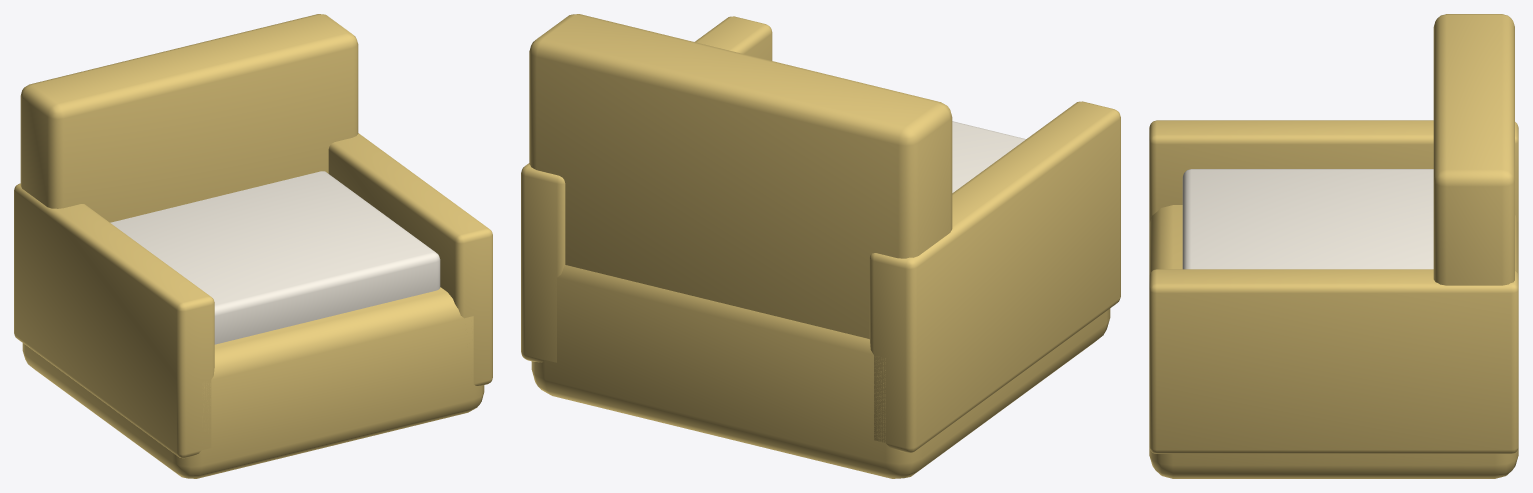
File: armchair.glb
3 views of the same model, side by side, from view 1: azimuth 30°, elevation 25°; view 2: azimuth 150°, elevation 25°; view 3: azimuth 270°, elevation 25° (orthographic). The views are drawn at different scales.
Parts seen in each view (by area): view 1: back.003, base.003, arm.002, cushion.001, arm.003; view 2: back.003, arm.002, base.003, arm.003, cushion.001; view 3: arm.003, cushion.001, back.003, arm.002, base.003.
Boxes of the visible parts, x1=… form: back.003: x1=20, y1=14, x2=358, y2=222; base.003: x1=22, y1=287, x2=484, y2=478; arm.002: x1=14, y1=183, x2=214, y2=458; cushion.001: x1=110, y1=171, x2=440, y2=344; arm.003: x1=328, y1=133, x2=492, y2=385; back.003: x1=529, y1=14, x2=952, y2=338; arm.002: x1=869, y1=101, x2=1120, y2=452; base.003: x1=531, y1=265, x2=1110, y2=478; arm.003: x1=521, y1=16, x2=772, y2=362; cushion.001: x1=952, y1=121, x2=1025, y2=192; arm.003: x1=1149, y1=269, x2=1518, y2=453; cushion.001: x1=1182, y1=169, x2=1433, y2=269; back.003: x1=1433, y1=14, x2=1514, y2=285; arm.002: x1=1149, y1=120, x2=1518, y2=222; base.003: x1=1149, y1=205, x2=1518, y2=478.
Bounding box in the file's own units: 0.918 × 0.792 × 0.85.
